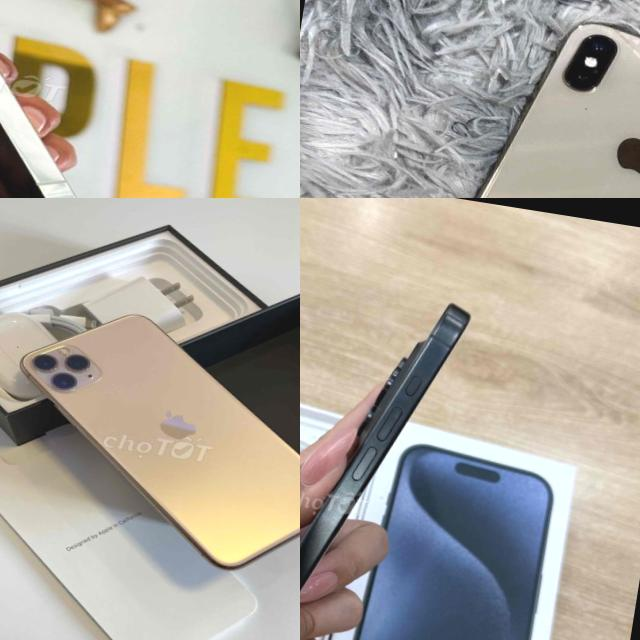gen_11: (0, 286, 300, 601)
gen_12_13: (0, 0, 139, 198)
gen_15: (300, 255, 483, 640)
gen_x_xs: (474, 23, 640, 198)
scratch: (314, 484, 360, 536), (575, 102, 596, 115), (582, 32, 596, 43)
